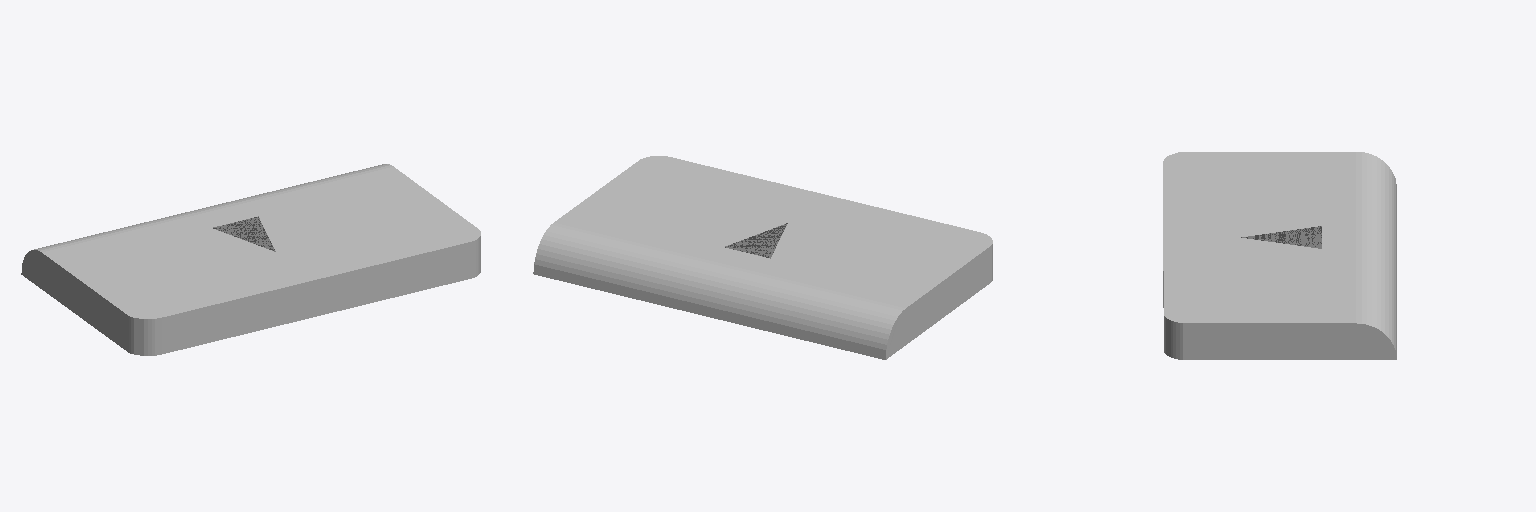
File: original-32.obj
The picture shows the model from 3 angles: view 1: azimuth 30°, elevation 25°; view 2: azimuth 150°, elevation 25°; view 3: azimuth 270°, elevation 25°; orthographic projection.
Parts seen in each view (by area): view 1: mesh31/mesh31-geometry#mesh31-geometry; view 2: mesh31/mesh31-geometry#mesh31-geometry; view 3: mesh31/mesh31-geometry#mesh31-geometry.
Part boxes in pixels (x1,y1,x2,y2): mesh31/mesh31-geometry#mesh31-geometry: (21, 164, 480, 355); mesh31/mesh31-geometry#mesh31-geometry: (533, 156, 992, 359); mesh31/mesh31-geometry#mesh31-geometry: (1163, 152, 1396, 359).
Bounding box in the file's own units: 0.0556 × 0.0056 × 0.032.